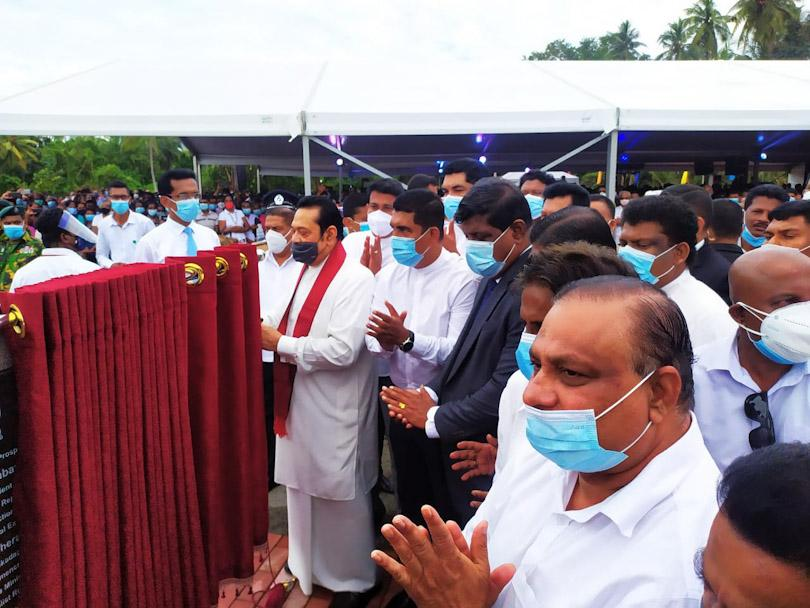with_incorrect_mask: (524, 332, 646, 474), (738, 199, 780, 247), (292, 216, 325, 268)
with_mask: (741, 270, 810, 367), (461, 224, 517, 278), (388, 213, 430, 266), (167, 184, 201, 226), (366, 195, 393, 237), (263, 218, 292, 252)
